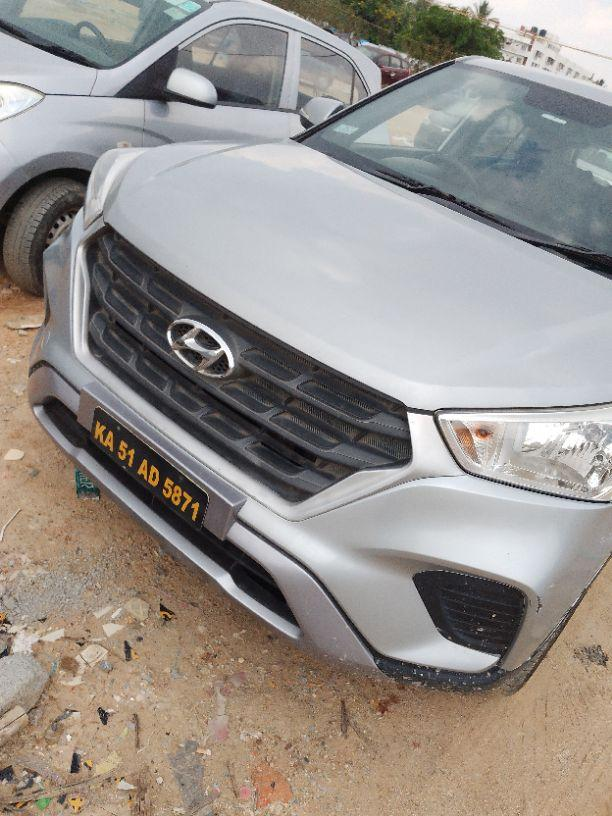license_plate: (88, 405, 210, 534)
